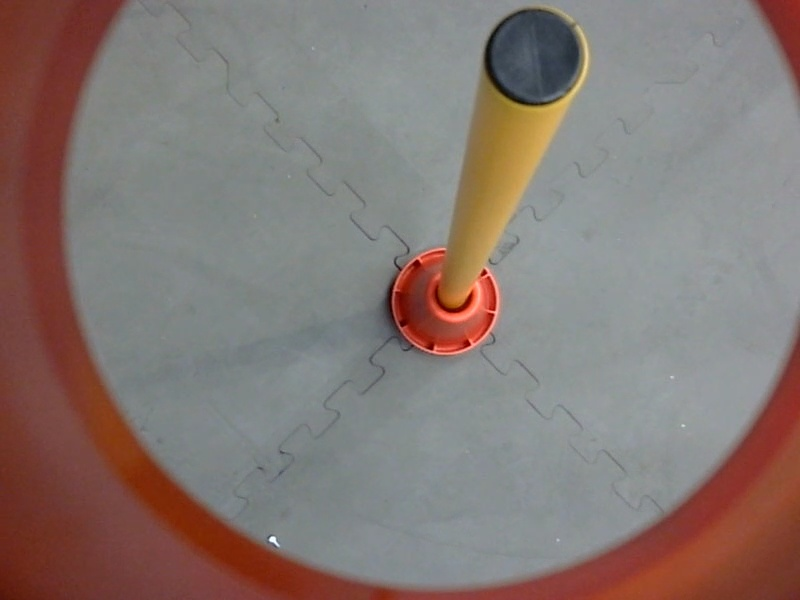tip: (476, 1, 600, 115)
